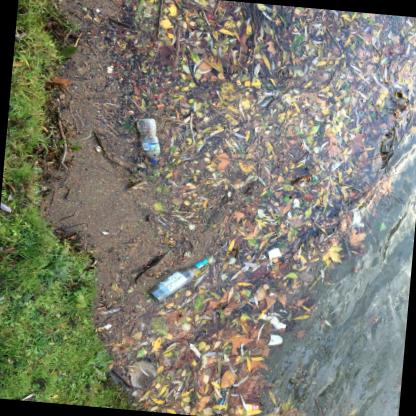Plastic: (146, 258, 207, 302), (136, 118, 159, 162), (239, 393, 261, 416), (218, 388, 228, 405)
Waste: (265, 334, 282, 346)
